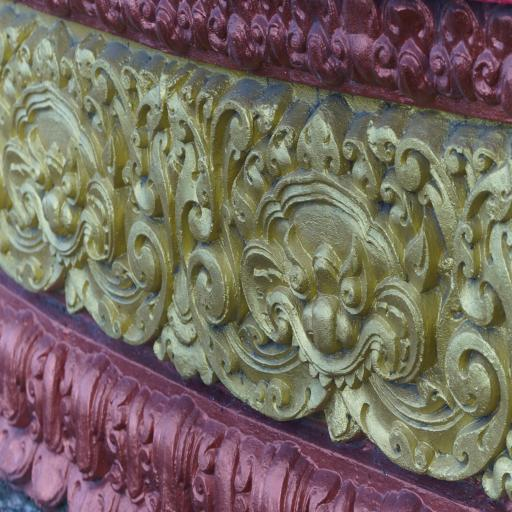la: (242, 176, 430, 388), (0, 86, 120, 272), (219, 406, 341, 512), (136, 375, 218, 512), (67, 342, 129, 512), (0, 302, 47, 500), (45, 331, 87, 512), (376, 0, 437, 108), (431, 0, 484, 109), (284, 0, 346, 87), (224, 3, 290, 75), (329, 0, 380, 93), (158, 0, 224, 65), (478, 6, 512, 111), (122, 0, 159, 45)
